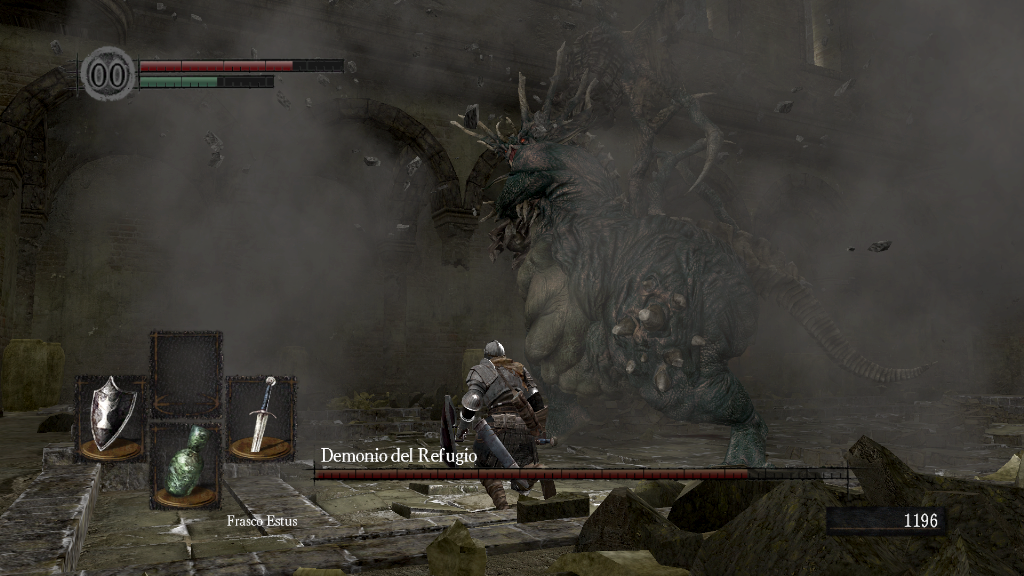asylumDemon: (451, 37, 939, 461)
bossHP: (314, 469, 847, 479)
health: (138, 58, 343, 71)
humanity: (80, 45, 136, 102)
player: (440, 338, 562, 511)
souls: (825, 506, 945, 536)
stamina: (138, 74, 274, 88)
